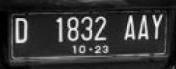1: (55, 16, 65, 45)
2: (94, 15, 109, 42)
3: (80, 16, 94, 44)
8: (64, 16, 80, 44)
A: (122, 14, 136, 43), (136, 13, 150, 42)
D: (14, 16, 30, 45)
Y: (150, 12, 164, 41)
